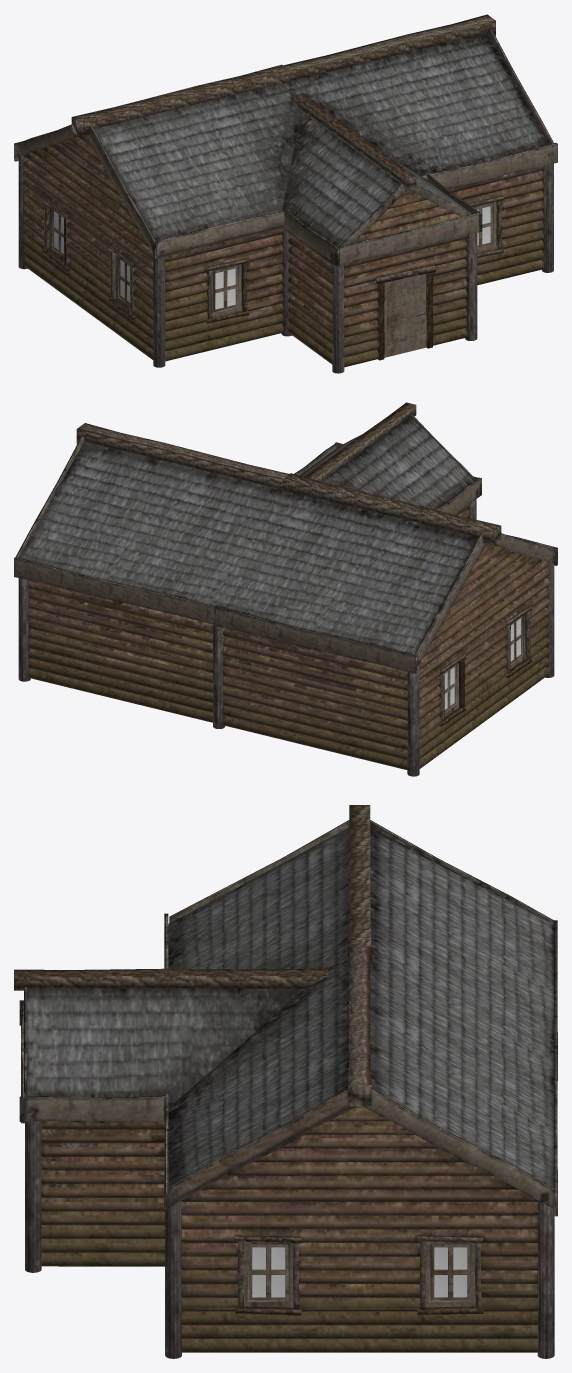
Rendered from sf-cabin2.glb.
3 views of the same model, one above another, from view 1: azimuth 30°, elevation 25°; view 2: azimuth 150°, elevation 25°; view 3: azimuth 270°, elevation 25° (orthographic). The views are drawn at different scales.
Visible parts, largest first — view 1: Cabin; view 2: Cabin; view 3: Cabin.
Boxes of the visible parts, left/top/right/bottom form: Cabin: left=14, top=14, right=557, bottom=373; Cabin: left=14, top=402, right=557, bottom=776; Cabin: left=14, top=805, right=557, bottom=1358.
Size of the model in its own units: 10.71 by 4.94 by 8.76.
Materials: 1 (1 with a texture image).
